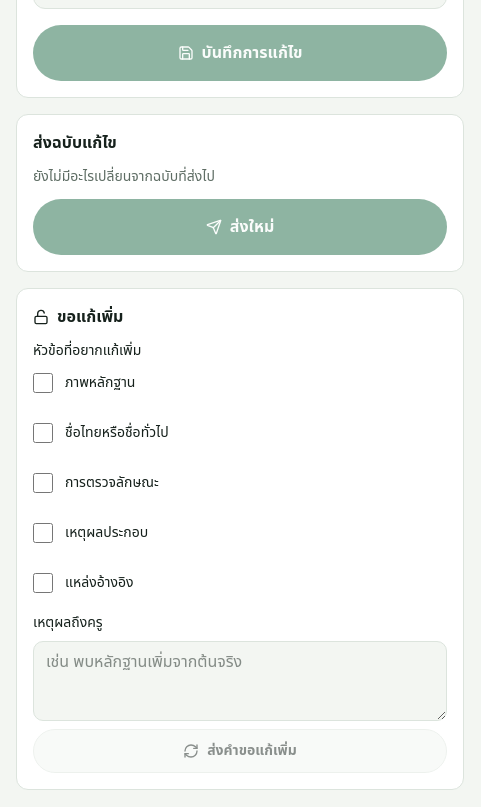
Scenario: RevisionScreen › asks the teacher for more topics and shows the pending request
(page scrolled)
Click the checkbox labelled "ชื่อไทยหรือชื่อทั่วไป".
click(43, 433)  # box [33,423,53,443]
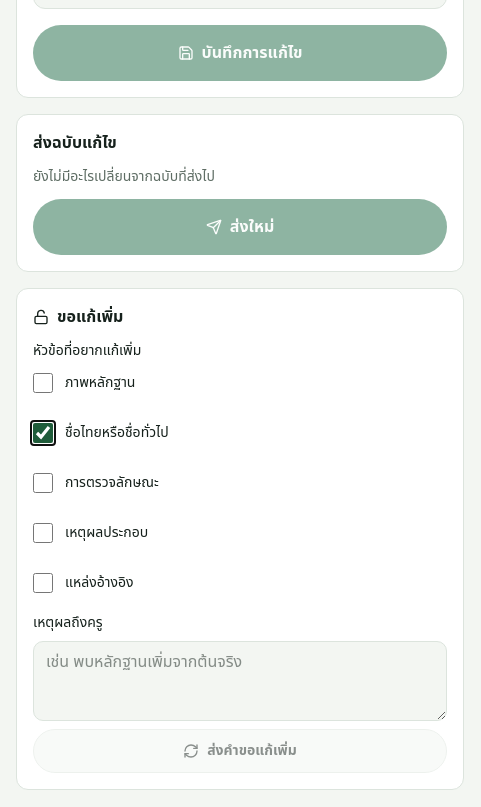
Type "พบชื่อท้องถิ่นเพิ่ม" into the text box labelled "เหตุผลถึงครู".
click(240, 681); type("พบชื่อท้องถิ่นเพิ่ม")  # box [33,641,447,721]
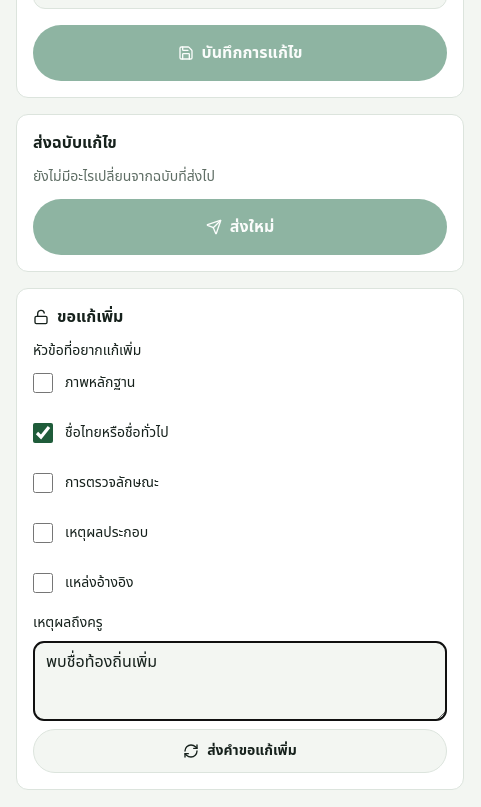
Click the button "ส่งคำขอแก้เพิ่ม".
click(240, 751)  # box [33,729,447,773]
(page scrolled)
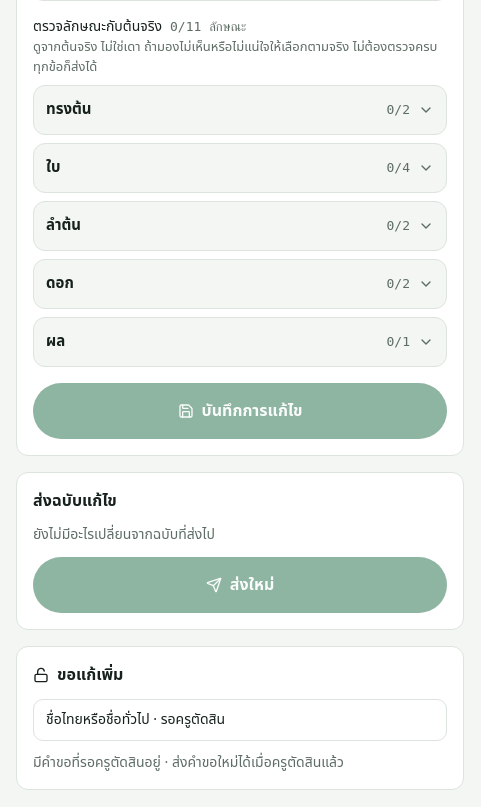
Now the list item "ชื่อไทยหรือชื่อทั่วไป · รอครูตัดสิน" is shown, box [33,699,447,741]
Now the button "ส่งคำขอแก้เพิ่ม" is gone
